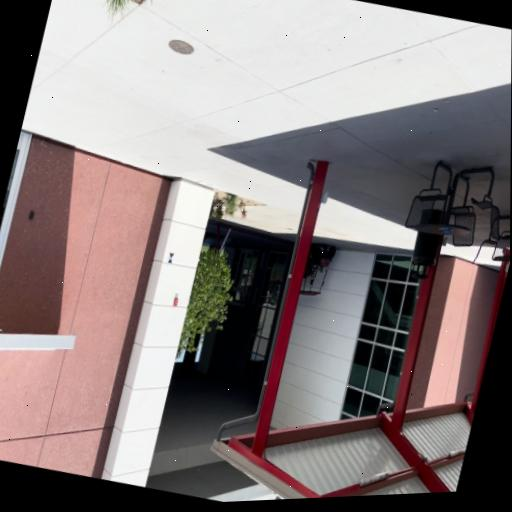target9: (166, 252, 174, 264)
